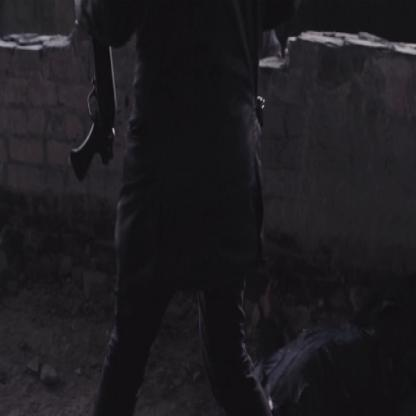Gun: (64, 0, 119, 183)
